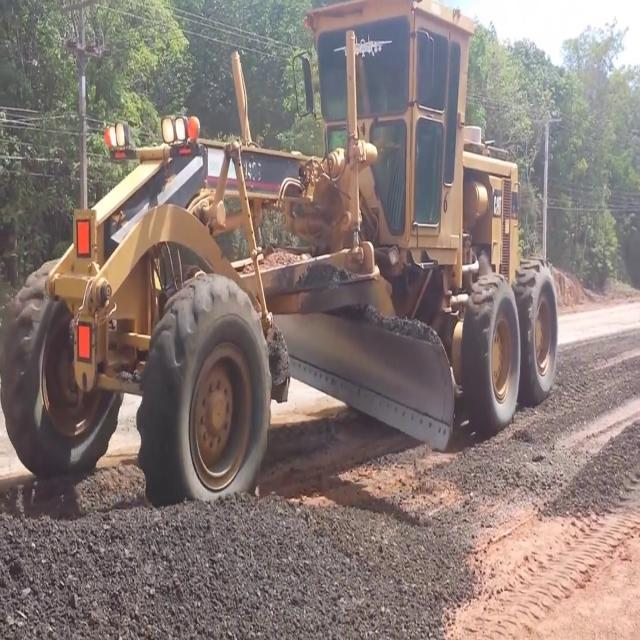buldozerpayloadergrader: (3, 1, 559, 494)
